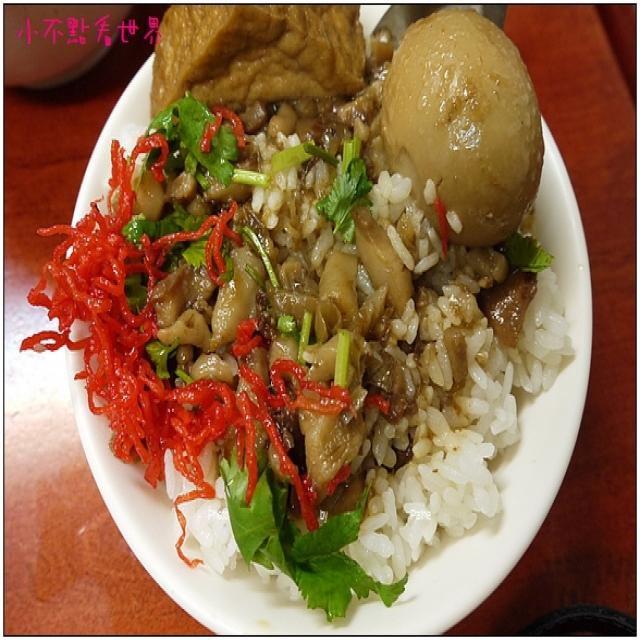猪肉菜式: (40, 13, 620, 620)
